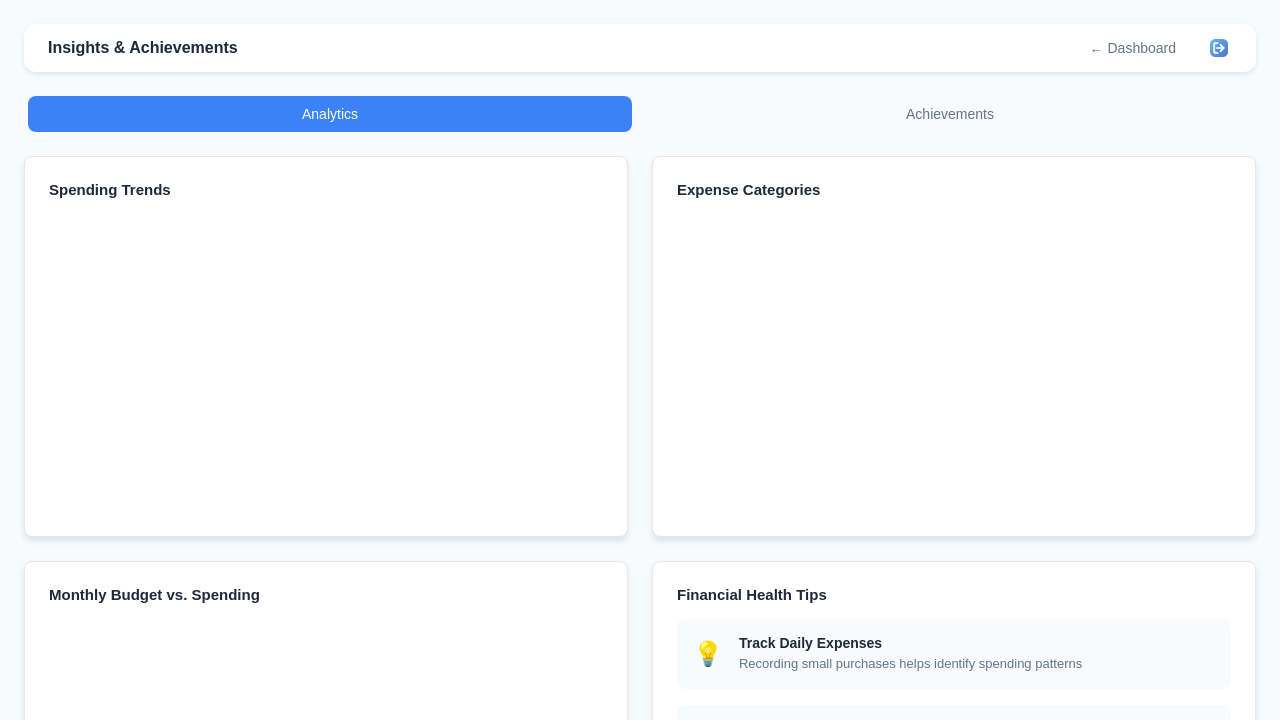
Insights Component › switches between analytics and achievements tabs
This screenshot has width=1280, height=720.
Expected: the heading "Spending Trends" is shown, [49, 181, 171, 198]
# Switch to achievements tab
Click the button "Achievements" at {"x": 950, "y": 114}, box [648, 96, 1252, 132]
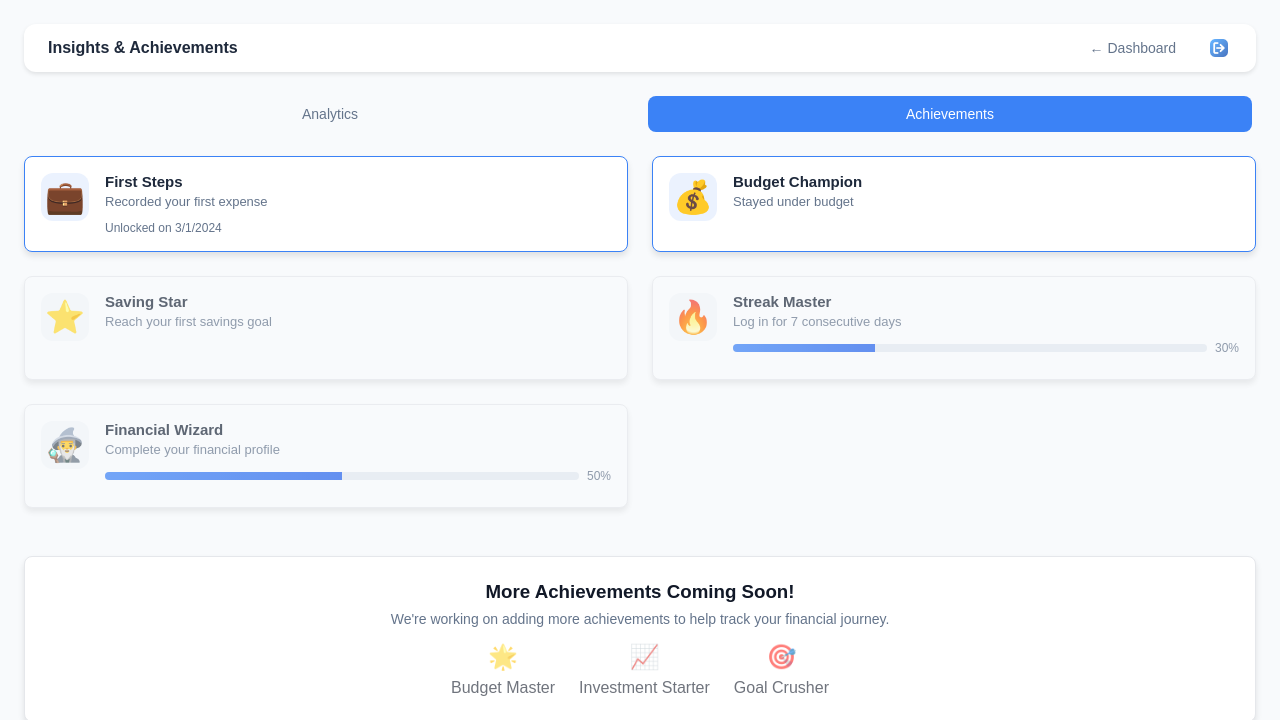
Now the heading "More Achievements Coming Soon!" is shown, box [486, 581, 794, 602]
